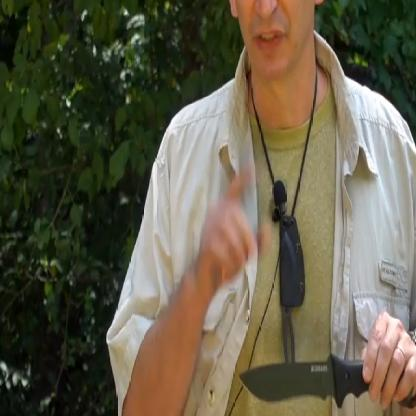knife: (233, 306, 410, 414)
